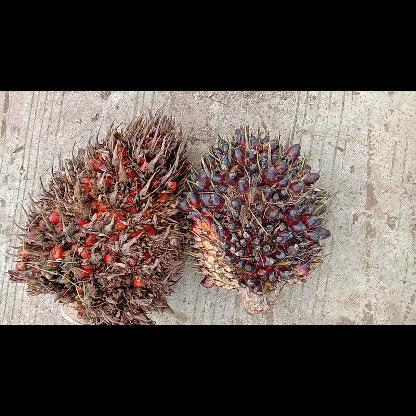TBS mentah: (179, 122, 330, 314)
Terlalu masak: (6, 108, 194, 324)
